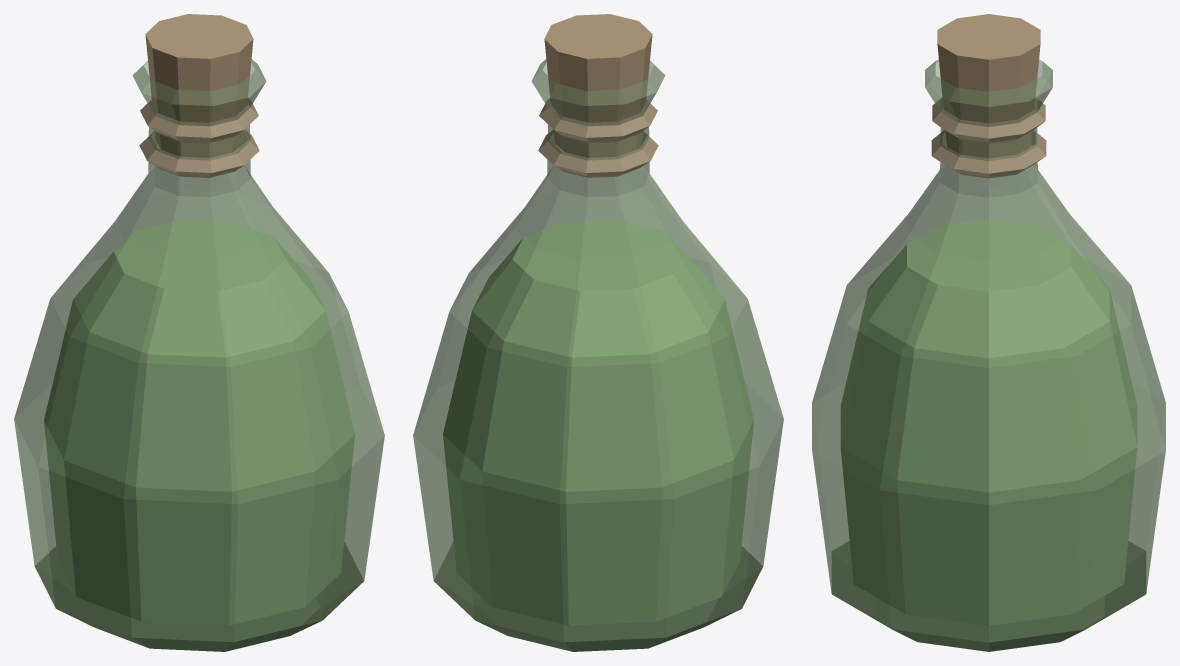
File: bottle_t1.fbx
3 views of the same model, side by side, from view 1: azimuth 30°, elevation 25°; view 2: azimuth 150°, elevation 25°; view 3: azimuth 270°, elevation 25° (orthographic).
Visible parts, largest first — view 1: bottle_t1, mist_t1; view 2: bottle_t1, mist_t1; view 3: bottle_t1, mist_t1.
Boxes of the visible parts, x1,y1,x2,y2 form: bottle_t1: (14,14,384,651); mist_t1: (44,220,354,625); bottle_t1: (413,14,783,651); mist_t1: (443,220,753,625); bottle_t1: (812,14,1165,651); mist_t1: (840,219,1137,625).
Size of the model in its own units: 9.69 by 16.2 by 9.21.
